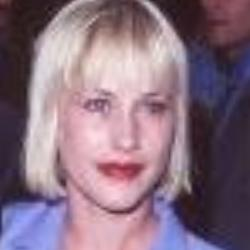face: (19, 1, 210, 222)
